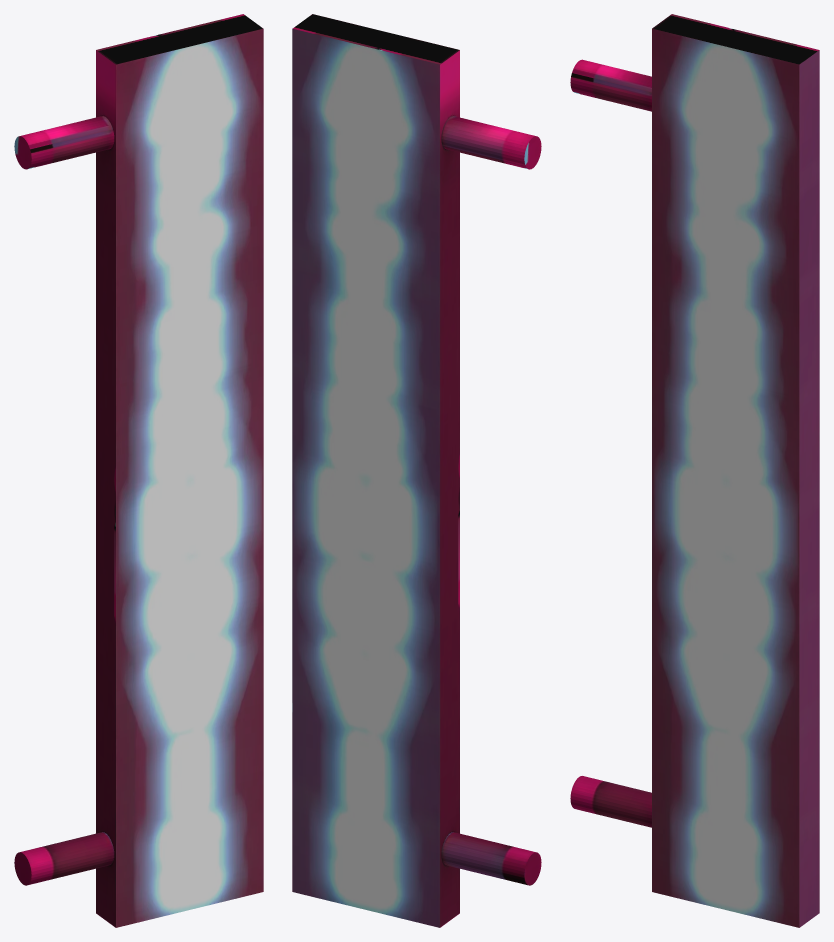
File: AfterMovie_Block-transformed.glb
3 views of the same model, side by side, from view 1: azimuth 30°, elevation 25°; view 2: azimuth 150°, elevation 25°; view 3: azimuth 330°, elevation 25° (orthographic).
Parts seen in each view (by area): view 1: Cube.001; view 2: Cube.001; view 3: Cube.001.
Part boxes in pixels (box(x1,y1,x2,y2)): Cube.001: box(14, 14, 263, 927); Cube.001: box(292, 14, 541, 927); Cube.001: box(570, 14, 819, 927).
Size of the model in its own units: 64.66 by 231 by 9.76.
1 material, 1 textured.
